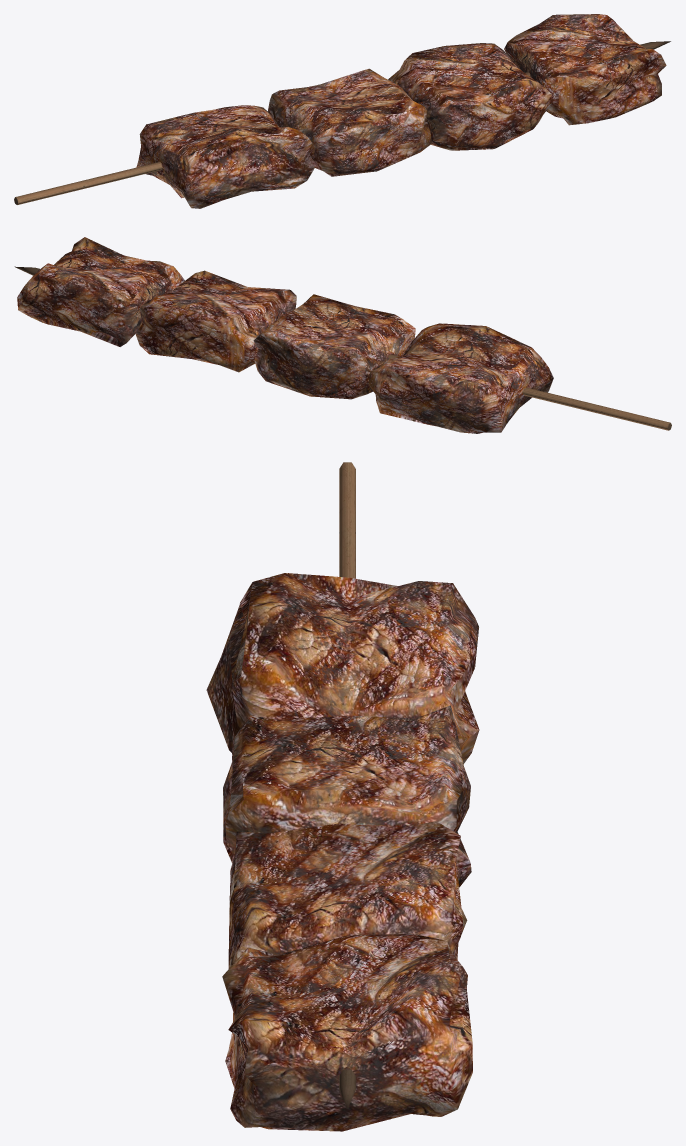
The model's file is Kabob.glb.
3 renders of one model, top to bottom at view 1: azimuth 30°, elevation 25°; view 2: azimuth 150°, elevation 25°; view 3: azimuth 270°, elevation 25°, orthographic. The views are drawn at different scales.
Visible parts, largest first — view 1: Box001_Material #25_0; view 2: Box001_Material #25_0; view 3: Box001_Material #25_0.
Part boxes in pixels (box(x1,y1,x2,y2)): Box001_Material #25_0: box(14, 14, 670, 208); Box001_Material #25_0: box(14, 237, 671, 433); Box001_Material #25_0: box(206, 462, 479, 1131).
Bounding box in the file's own units: 3.93 × 0.4137 × 0.7081.
1 material, 1 textured.
